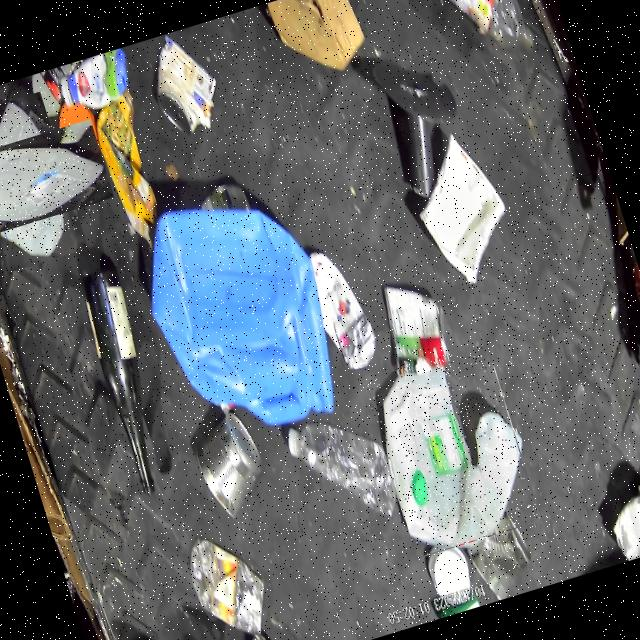milk-jug: (361, 342, 540, 558), (0, 104, 100, 257)
